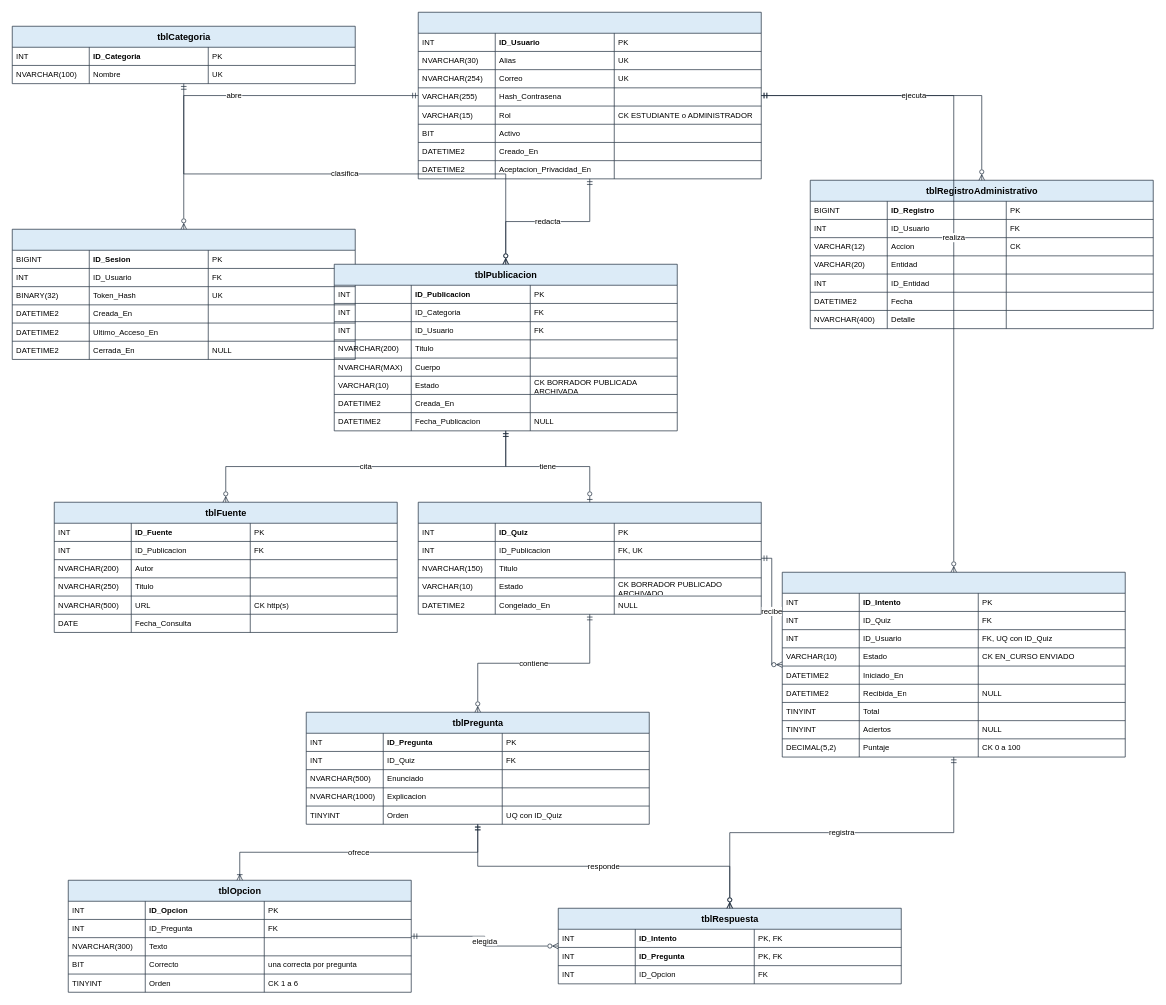
The diagram is 1166 pixels wide and 1005 high, and some of its shapes have lost their labels. Here are the shapes that lost their labels. From the top down, the box of each, then its label:
(418, 12, 761, 179): tblUsuario
(12, 229, 355, 359): tblSesion
(418, 502, 761, 614): tblQuiz
(782, 572, 1125, 757): tblIntento
